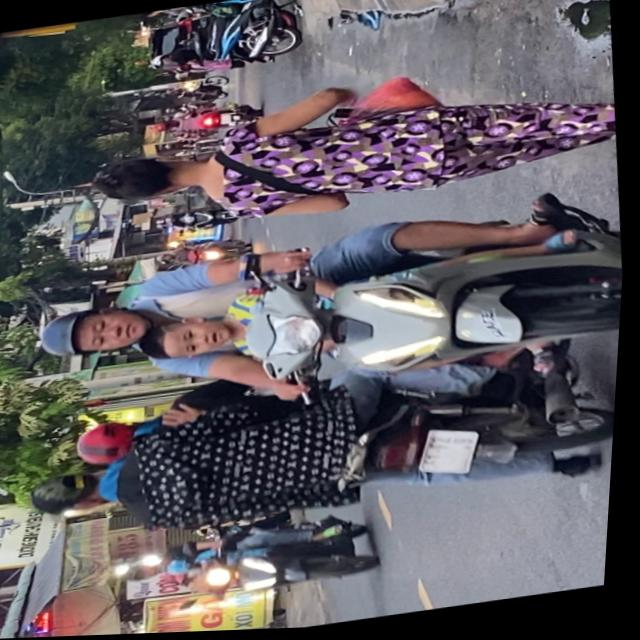helmet: (38, 301, 153, 366), (77, 415, 153, 469)
licenseplate: (27, 183, 631, 436), (23, 326, 624, 561), (123, 511, 389, 615)
motorcyclist: (138, 309, 242, 368), (32, 465, 124, 524), (131, 562, 170, 585)
nohelmet: (421, 427, 487, 482)
